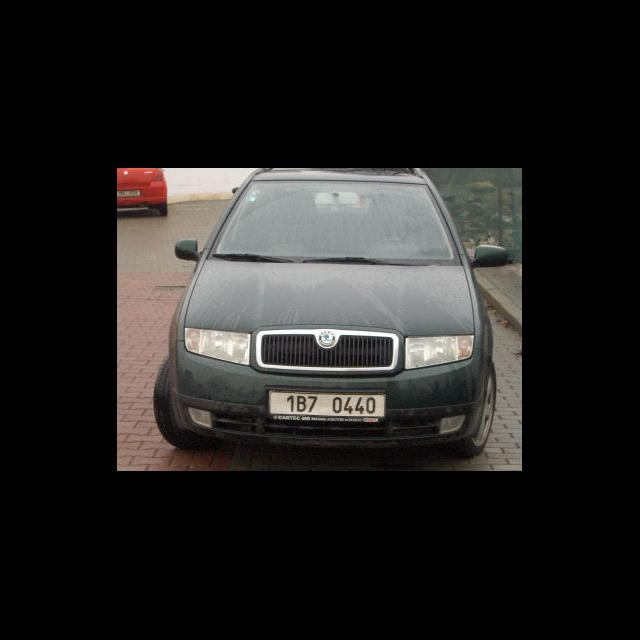Plate: (266, 388, 386, 422)
